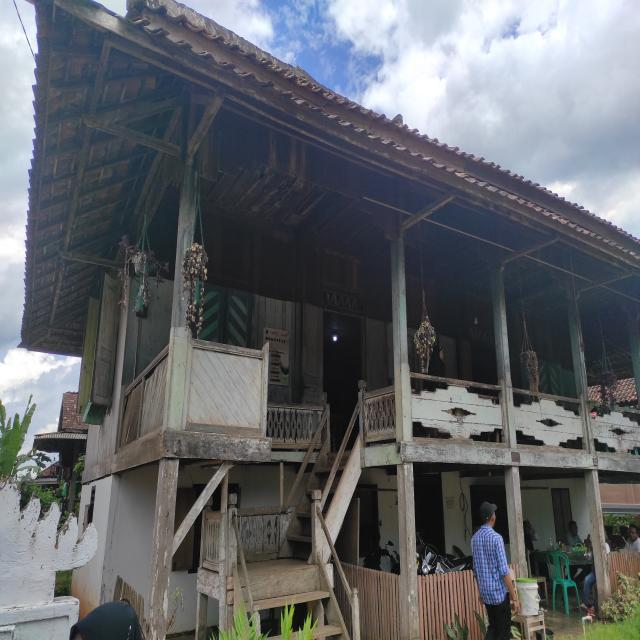Ornamen: (118, 343, 169, 450), (412, 386, 502, 439), (237, 507, 281, 562)
Pintu: (322, 311, 366, 449), (414, 474, 446, 570), (471, 342, 501, 408)
Tangga: (277, 432, 362, 563), (236, 565, 350, 640)
jendela: (76, 273, 122, 413), (193, 281, 253, 348)
